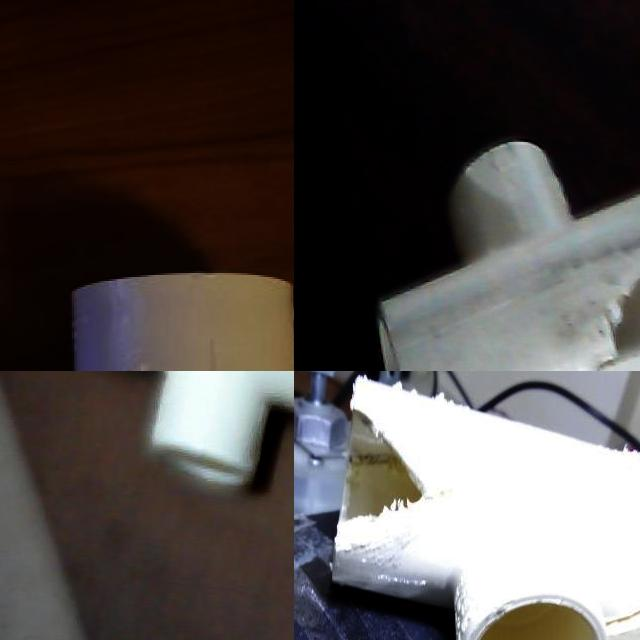Defective: (586, 210, 640, 371)
L Joint: (71, 273, 294, 371)
T Joint: (372, 141, 640, 371), (143, 371, 294, 500)
